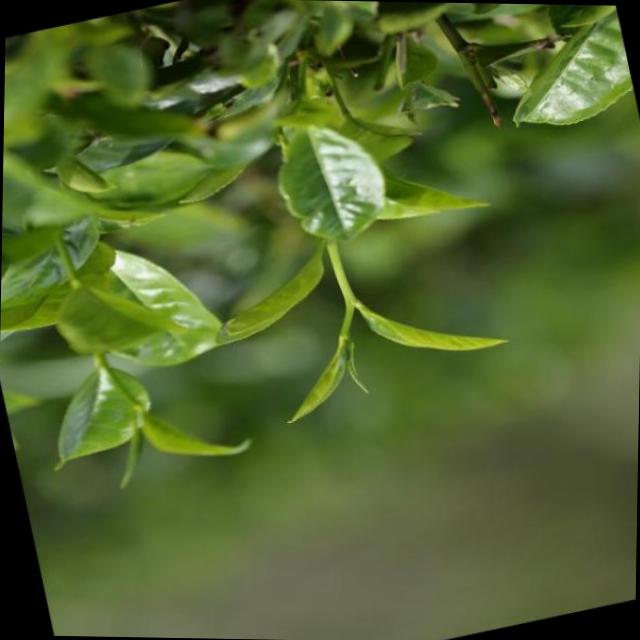Stem: (345, 297, 356, 307), (131, 402, 138, 409)
